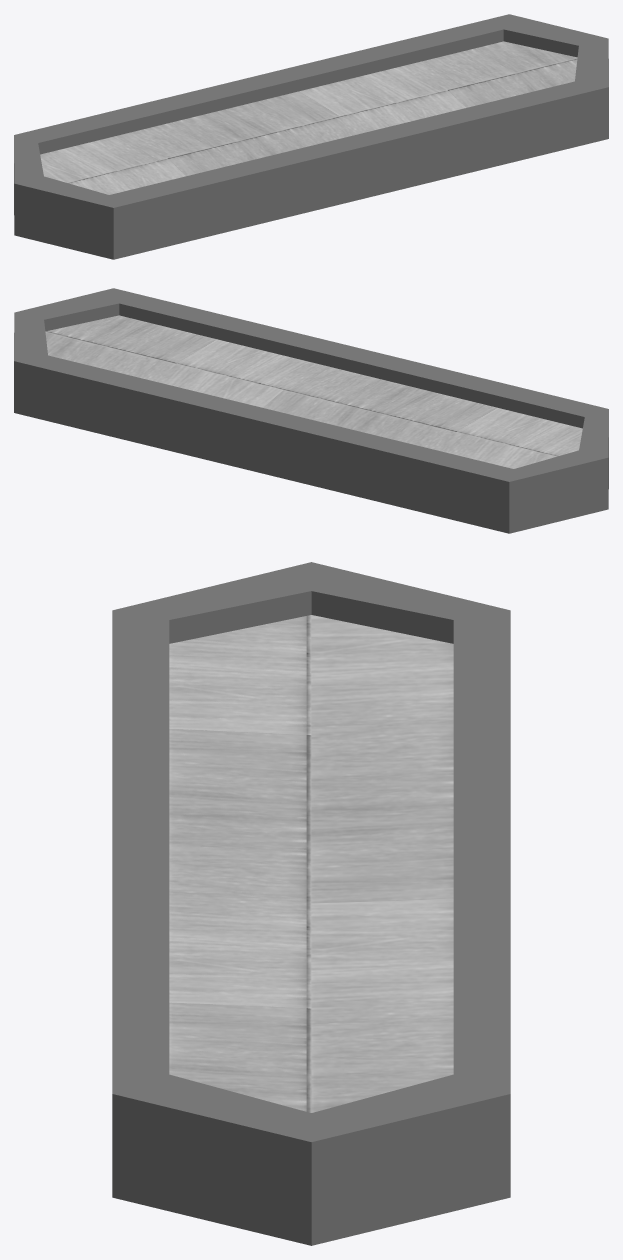
File: Thing_8.obj
The picture shows the model from 3 angles, top to bottom: view 1: azimuth 30°, elevation 25°; view 2: azimuth 150°, elevation 25°; view 3: azimuth 270°, elevation 25°; orthographic projection. The views are drawn at different scales.
Parts seen in each view (by area): view 1: Mesh69_Group76_Group73_Model, Mesh70_Group77_Group73_Model; view 2: Mesh69_Group76_Group73_Model, Mesh70_Group77_Group73_Model; view 3: Mesh70_Group77_Group73_Model, Mesh69_Group76_Group73_Model.
Part boxes in pixels (bbox=[...]): Mesh69_Group76_Group73_Model: bbox=[14, 14, 608, 259]; Mesh70_Group77_Group73_Model: bbox=[40, 41, 577, 194]; Mesh69_Group76_Group73_Model: bbox=[14, 288, 608, 533]; Mesh70_Group77_Group73_Model: bbox=[45, 315, 582, 468]; Mesh70_Group77_Group73_Model: bbox=[169, 615, 453, 1112]; Mesh69_Group76_Group73_Model: bbox=[112, 562, 510, 1245].
Size of the model in its own units: 6 by 0.5 by 1.74.
Materials: 2 (1 with a texture image).
